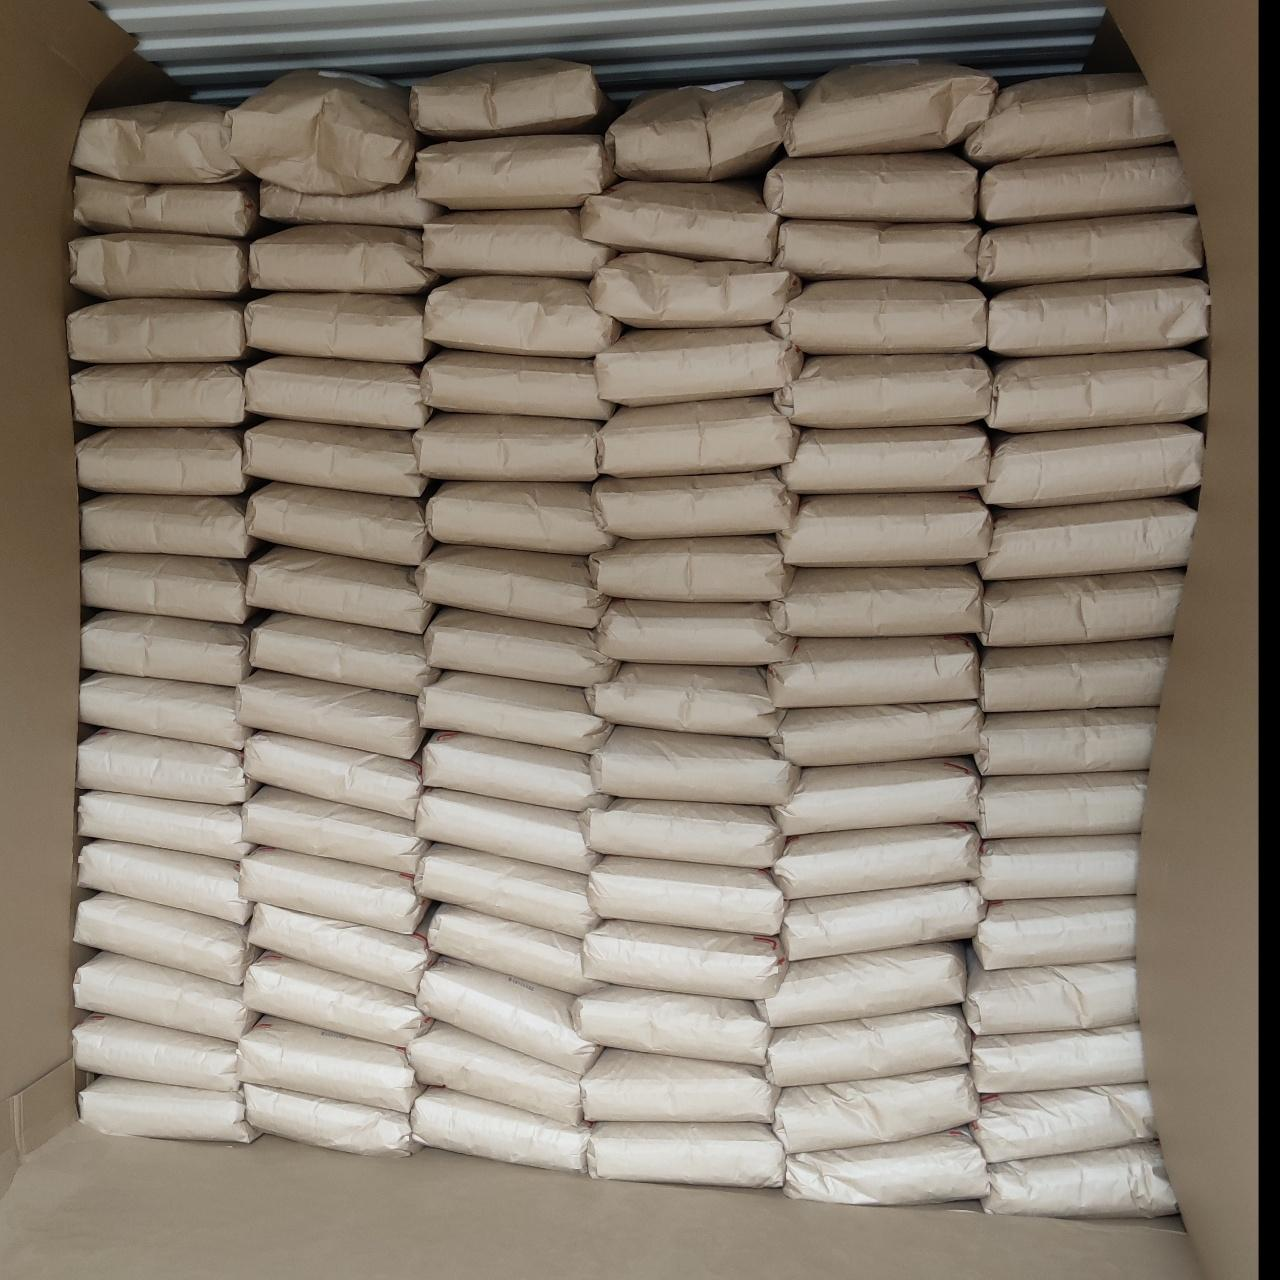sack: (224, 72, 416, 195), (417, 957, 597, 1074), (784, 65, 998, 156), (606, 81, 796, 180), (965, 74, 1170, 163), (980, 425, 1202, 507), (977, 497, 1196, 580), (987, 351, 1207, 432), (772, 1067, 979, 1153), (237, 1016, 419, 1113), (986, 276, 1209, 355), (407, 1022, 582, 1122), (758, 943, 964, 1027), (244, 952, 423, 1047), (417, 844, 597, 937), (963, 939, 1137, 1035), (74, 893, 257, 984), (249, 903, 432, 994), (978, 213, 1202, 287), (235, 670, 423, 758), (73, 952, 258, 1041), (591, 726, 799, 805), (980, 146, 1193, 223), (597, 396, 798, 477), (596, 327, 803, 405), (766, 1007, 970, 1086), (772, 279, 986, 354), (778, 492, 992, 567), (415, 545, 608, 628), (247, 547, 433, 633), (589, 252, 799, 328), (773, 759, 979, 836), (243, 787, 424, 874), (583, 920, 782, 999), (780, 883, 984, 960), (581, 181, 777, 261), (409, 59, 610, 137), (977, 570, 1183, 646), (572, 986, 770, 1065), (425, 277, 620, 357), (417, 672, 609, 753), (777, 355, 990, 428), (245, 482, 432, 565), (240, 848, 422, 933), (588, 856, 782, 935), (772, 824, 979, 898), (243, 733, 421, 818), (417, 788, 595, 873), (428, 904, 595, 994), (767, 637, 978, 708), (784, 1131, 989, 1204), (423, 609, 617, 686), (250, 614, 434, 695), (981, 1141, 1177, 1217), (770, 567, 982, 636), (72, 101, 248, 184), (411, 1087, 589, 1169), (763, 153, 977, 221), (416, 135, 615, 208), (581, 1049, 778, 1122), (592, 469, 797, 539), (78, 841, 249, 924), (972, 1084, 1153, 1162), (782, 425, 989, 493), (582, 798, 783, 868), (242, 420, 427, 496), (980, 638, 1170, 712), (422, 732, 598, 811), (592, 663, 778, 737), (245, 356, 430, 430), (421, 350, 614, 420), (770, 702, 981, 766), (426, 482, 612, 554), (589, 536, 794, 601), (423, 210, 616, 278), (78, 730, 255, 804), (596, 600, 795, 665), (81, 674, 251, 750), (250, 225, 437, 294), (246, 293, 430, 363), (587, 1122, 783, 1187), (82, 611, 249, 686), (974, 707, 1157, 775), (72, 1015, 237, 1090), (773, 220, 982, 279), (414, 414, 598, 481), (971, 1024, 1143, 1094), (82, 553, 251, 623), (80, 791, 251, 860), (974, 896, 1135, 969), (80, 1076, 257, 1142), (70, 233, 248, 298), (74, 174, 257, 237), (68, 299, 251, 362), (976, 772, 1147, 838), (245, 1084, 410, 1152), (77, 429, 248, 494), (81, 495, 255, 558), (72, 365, 246, 427), (975, 836, 1139, 900), (260, 175, 444, 228)
